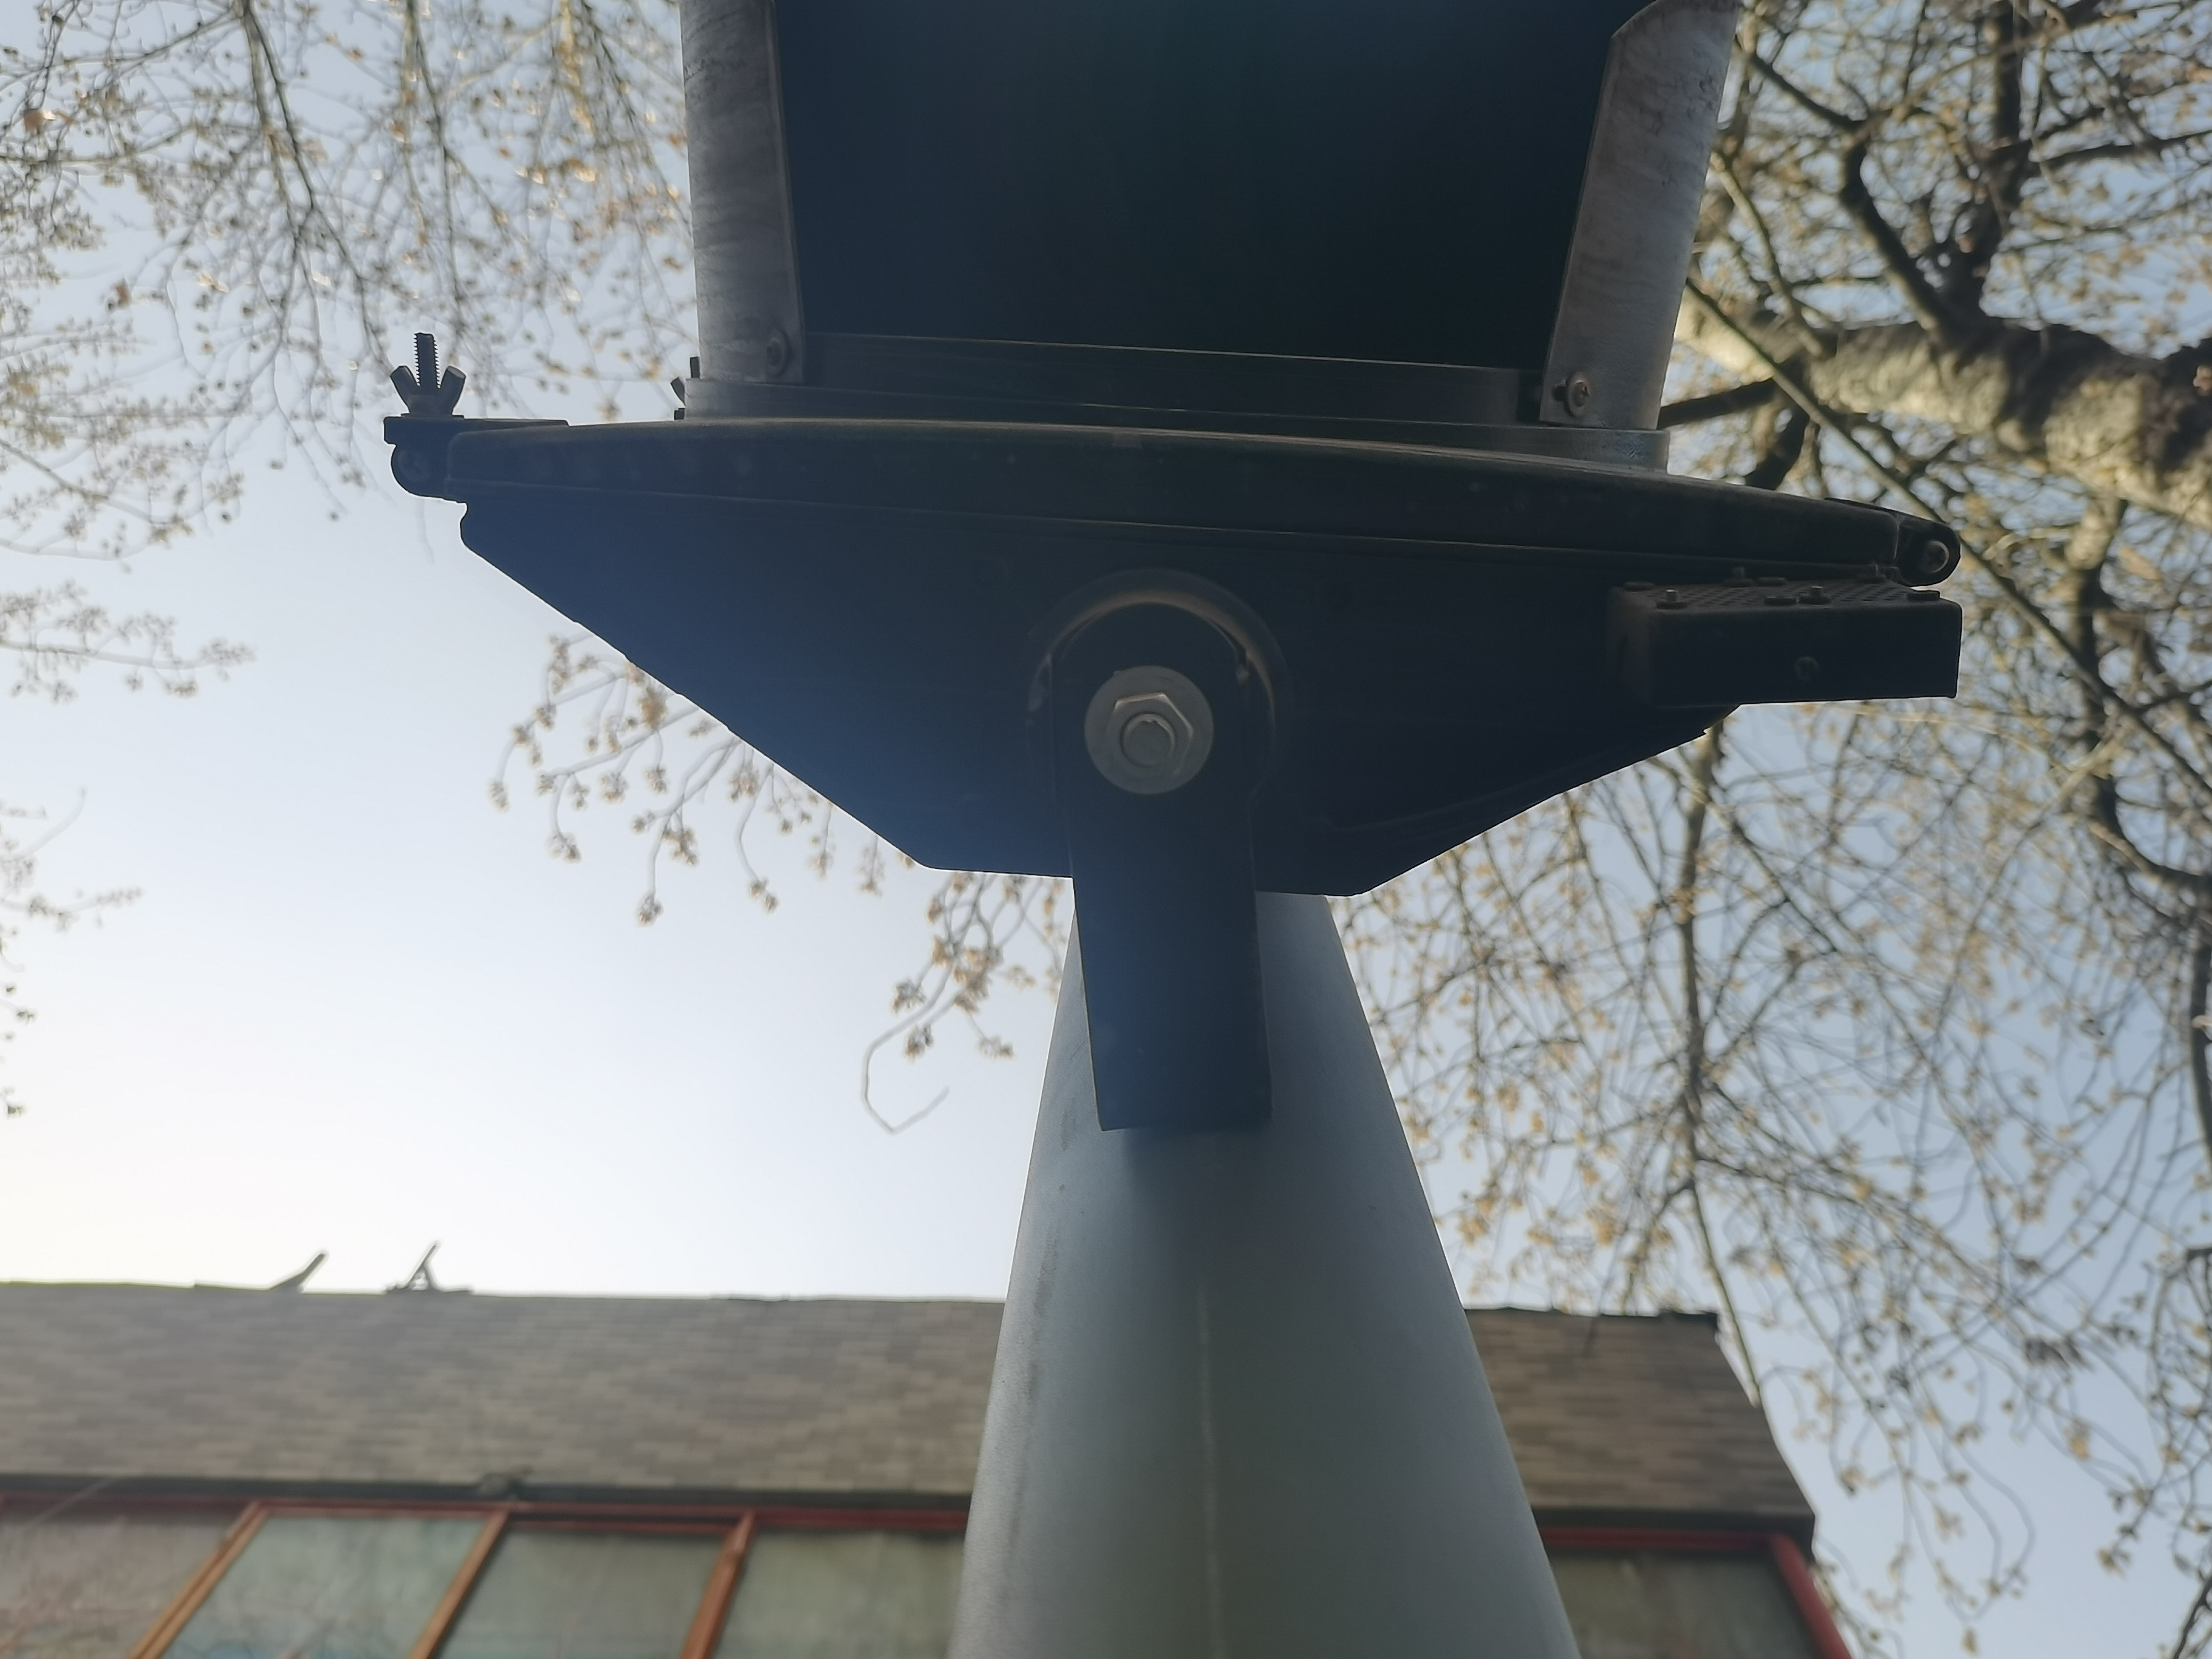bolt_b: (1101, 688, 1197, 786)
